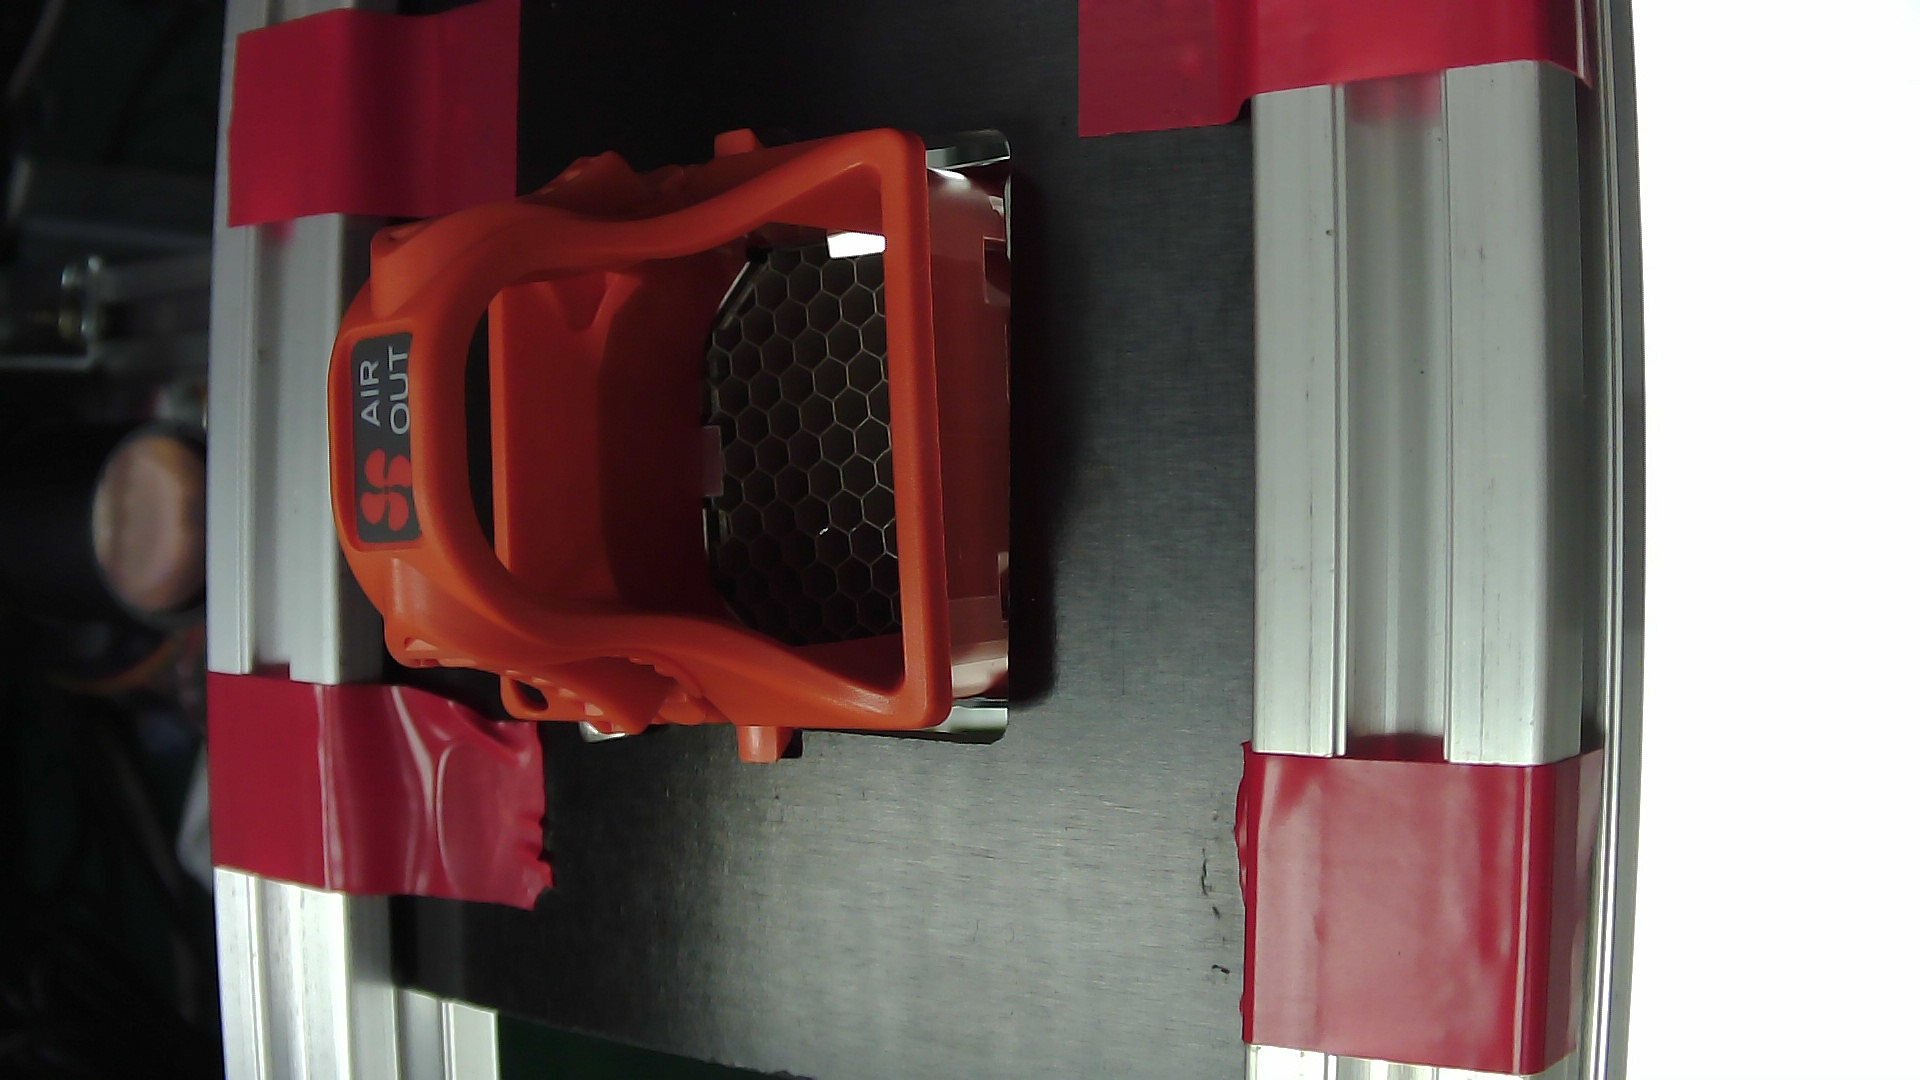1_0: (305, 116, 1101, 789)
